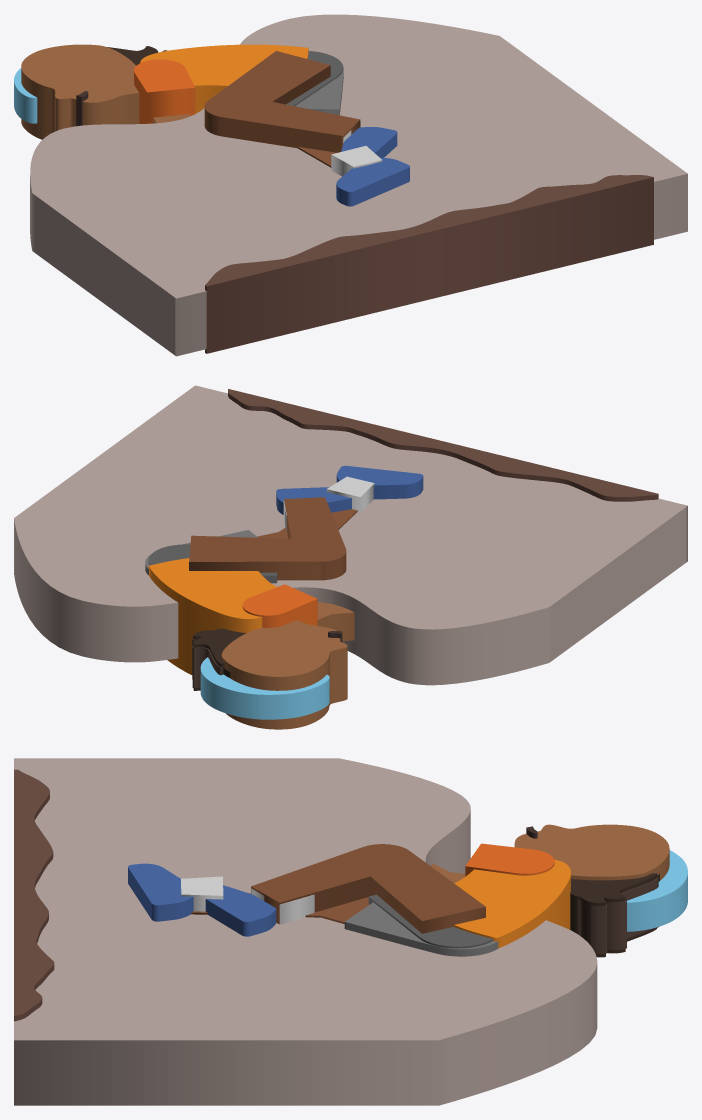
File: emoji_u1f6b5_1f3fe.glb
3 views of the same model, one above another, from view 1: azimuth 30°, elevation 25°; view 2: azimuth 150°, elevation 25°; view 3: azimuth 270°, elevation 25° (orthographic). The views are drawn at different scales.
Visible parts, largest first — view 1: emoji_u1f6b5_1f3fe; view 2: emoji_u1f6b5_1f3fe; view 3: emoji_u1f6b5_1f3fe.
Boxes of the visible parts, x1,y1,x2,y2 form: emoji_u1f6b5_1f3fe: [14, 14, 687, 356]; emoji_u1f6b5_1f3fe: [14, 385, 687, 729]; emoji_u1f6b5_1f3fe: [14, 758, 687, 1105].
Bounding box in the file's own units: 0.0333 × 0.006 × 0.0336.
